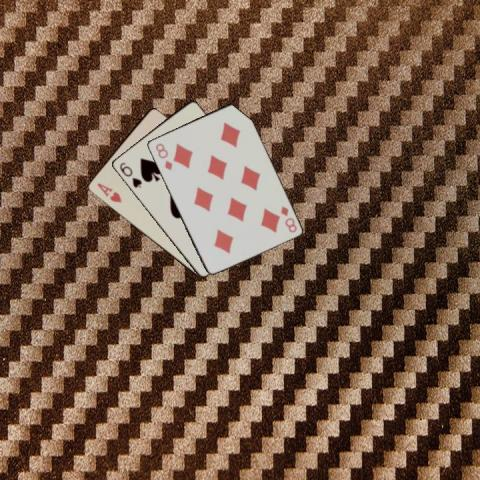6s: (116, 160, 143, 190)
8d: (152, 140, 173, 171), (277, 203, 298, 234)
Ah: (94, 180, 123, 204)
